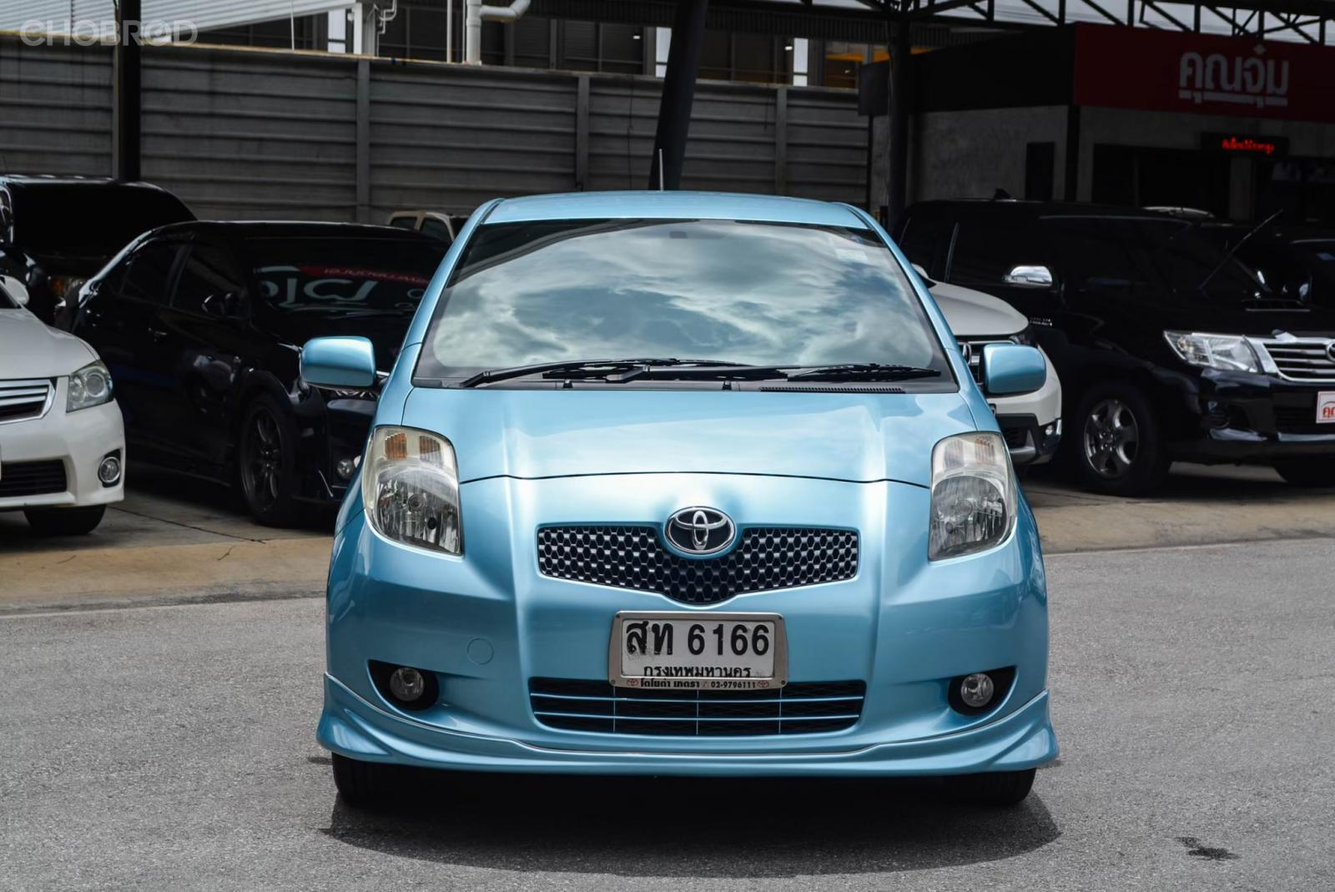license-plate: (603, 611, 791, 695)
